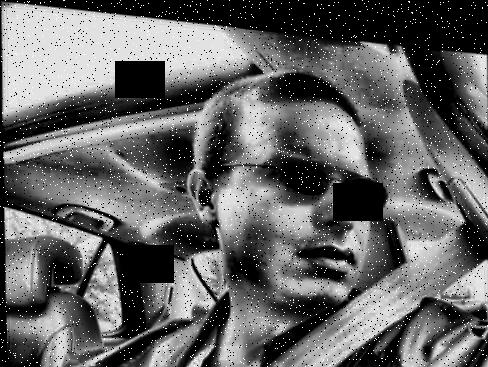seatbelt: (246, 185, 481, 367)
